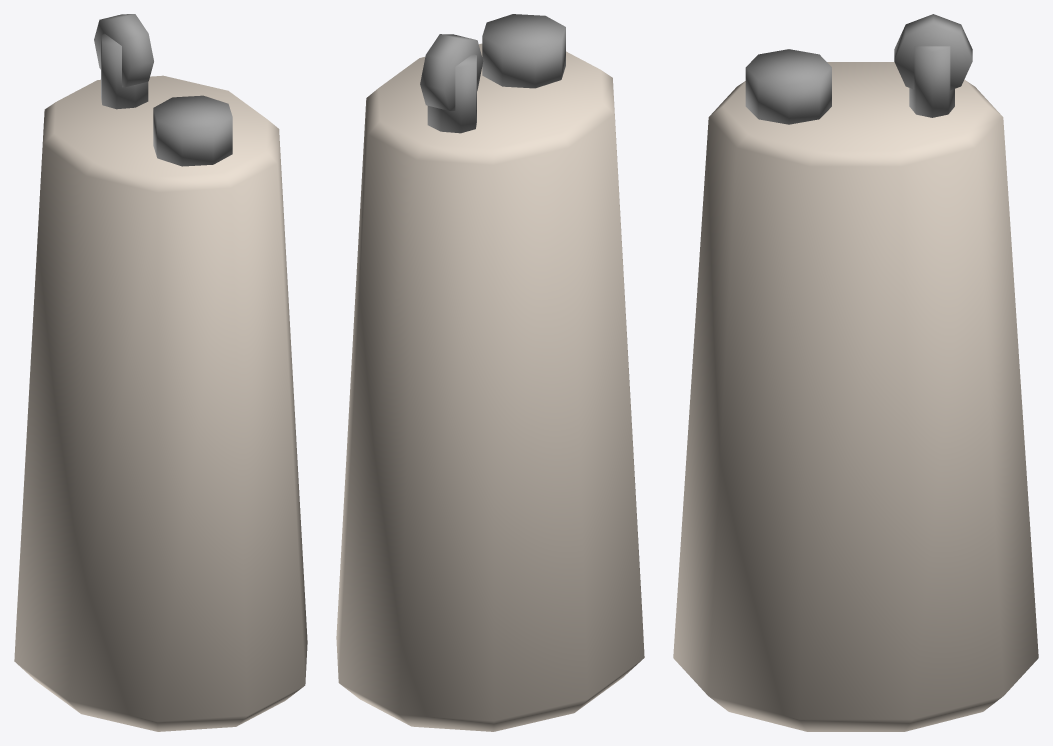
The model's file is Isqueiro.fbx.
The picture shows the model from 3 angles, left to right: view 1: azimuth 30°, elevation 25°; view 2: azimuth 150°, elevation 25°; view 3: azimuth 270°, elevation 25°; orthographic projection. The views are drawn at different scales.
Parts seen in each view (by area): view 1: Base, Boca, Acendedor, Base Acendedor; view 2: Base, Boca, Acendedor, Base Acendedor; view 3: Base, Boca, Acendedor, Base Acendedor.
Part boxes in pixels (x1,y1,x2,y2): Base: (14,75,307,731); Boca: (153,95,232,166); Acendedor: (94,14,153,87); Base Acendedor: (101,33,148,109); Base: (336,43,644,731); Boca: (482,14,565,88); Acendedor: (420,34,483,110); Base Acendedor: (427,54,476,133); Base: (673,62,1038,731); Boca: (745,49,831,124); Acendedor: (894,14,972,90); Base Acendedor: (909,46,954,117).
Size of the model in its own units: 5.58 by 13.99 by 7.03.
